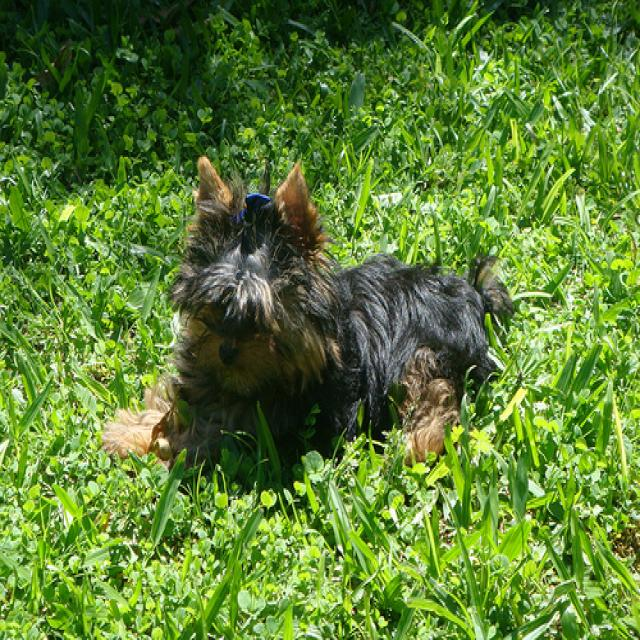dog-yorkshire_terrier: (160, 145, 524, 492)
